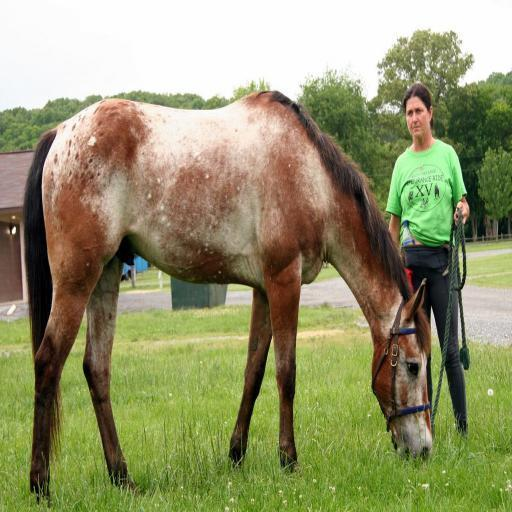horse: (20, 82, 432, 500)
